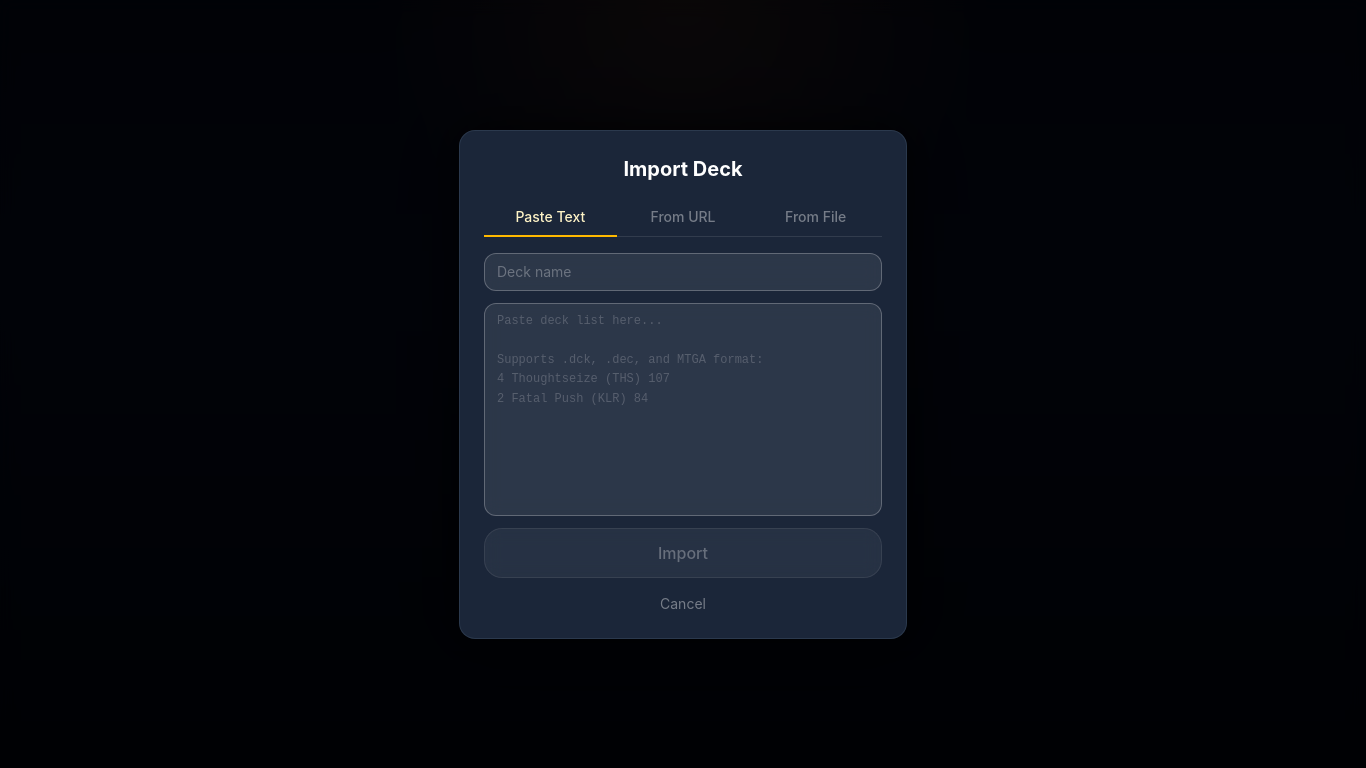
Test: ImportDeckModal › shows an error when pasted text contains no recognizable cards
In the text box with placeholder "Paste deck list here": (683, 409) [484,302,882,516], type "asdasd"
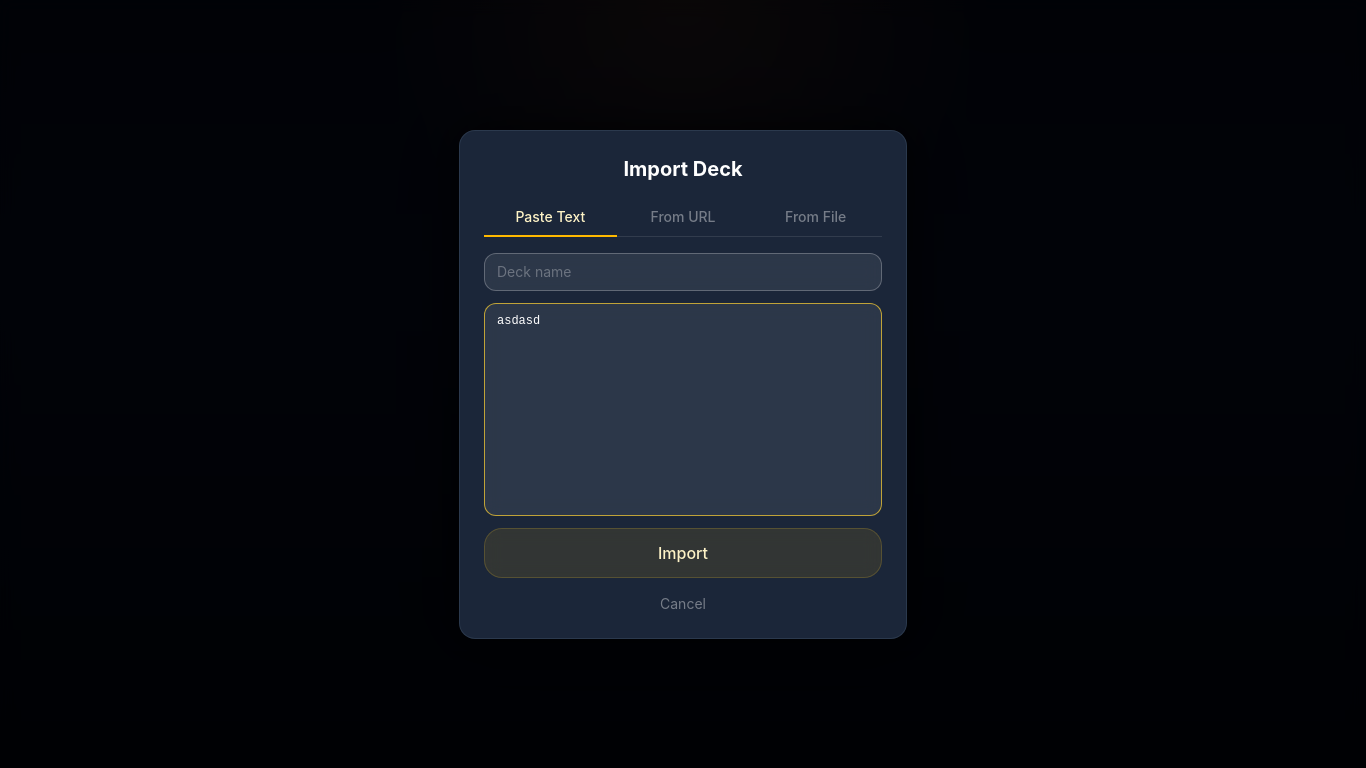
Click the button "Import": (683, 552) [484,528,882,578]
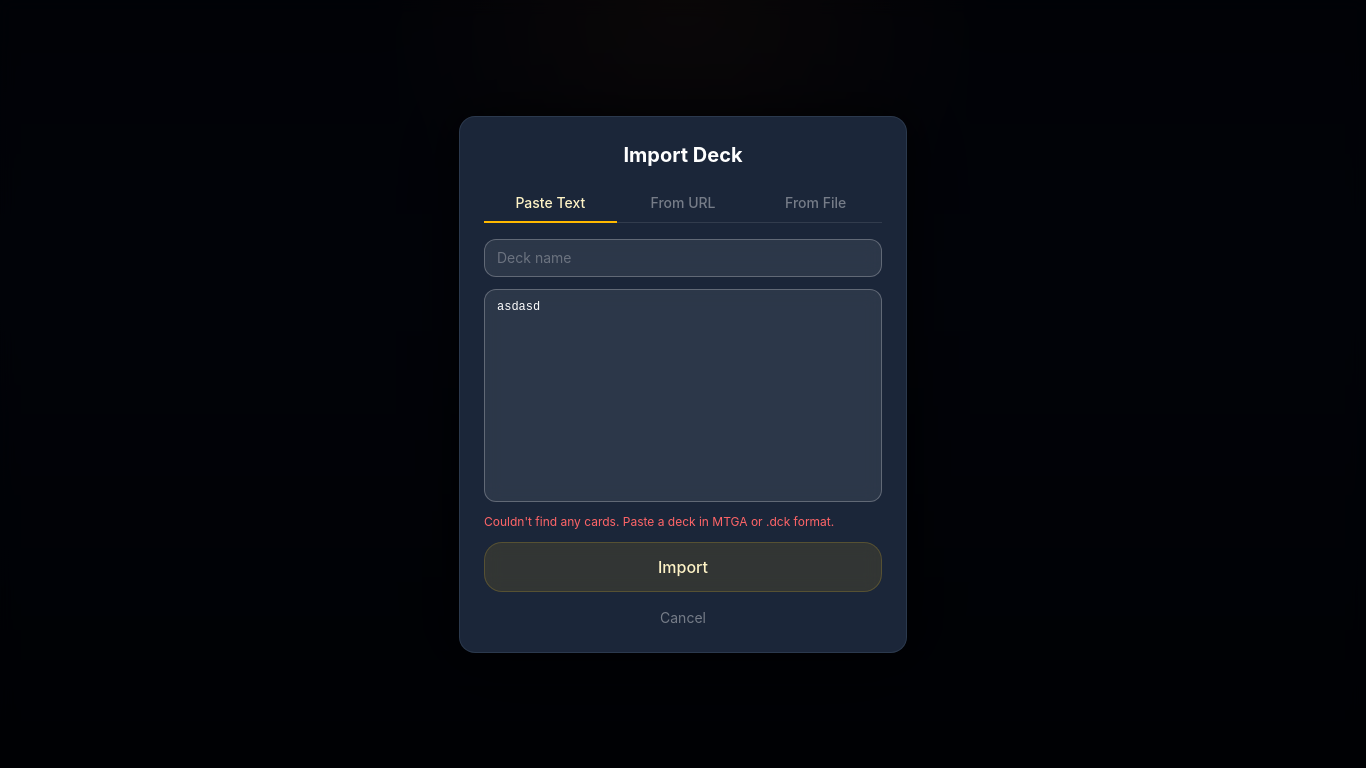
Check: the text "Couldn't find any cards" is shown, box [484,514,834,528]
